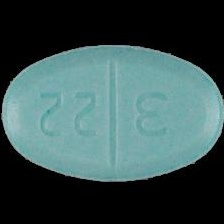21695-747: (0, 0, 224, 224)
